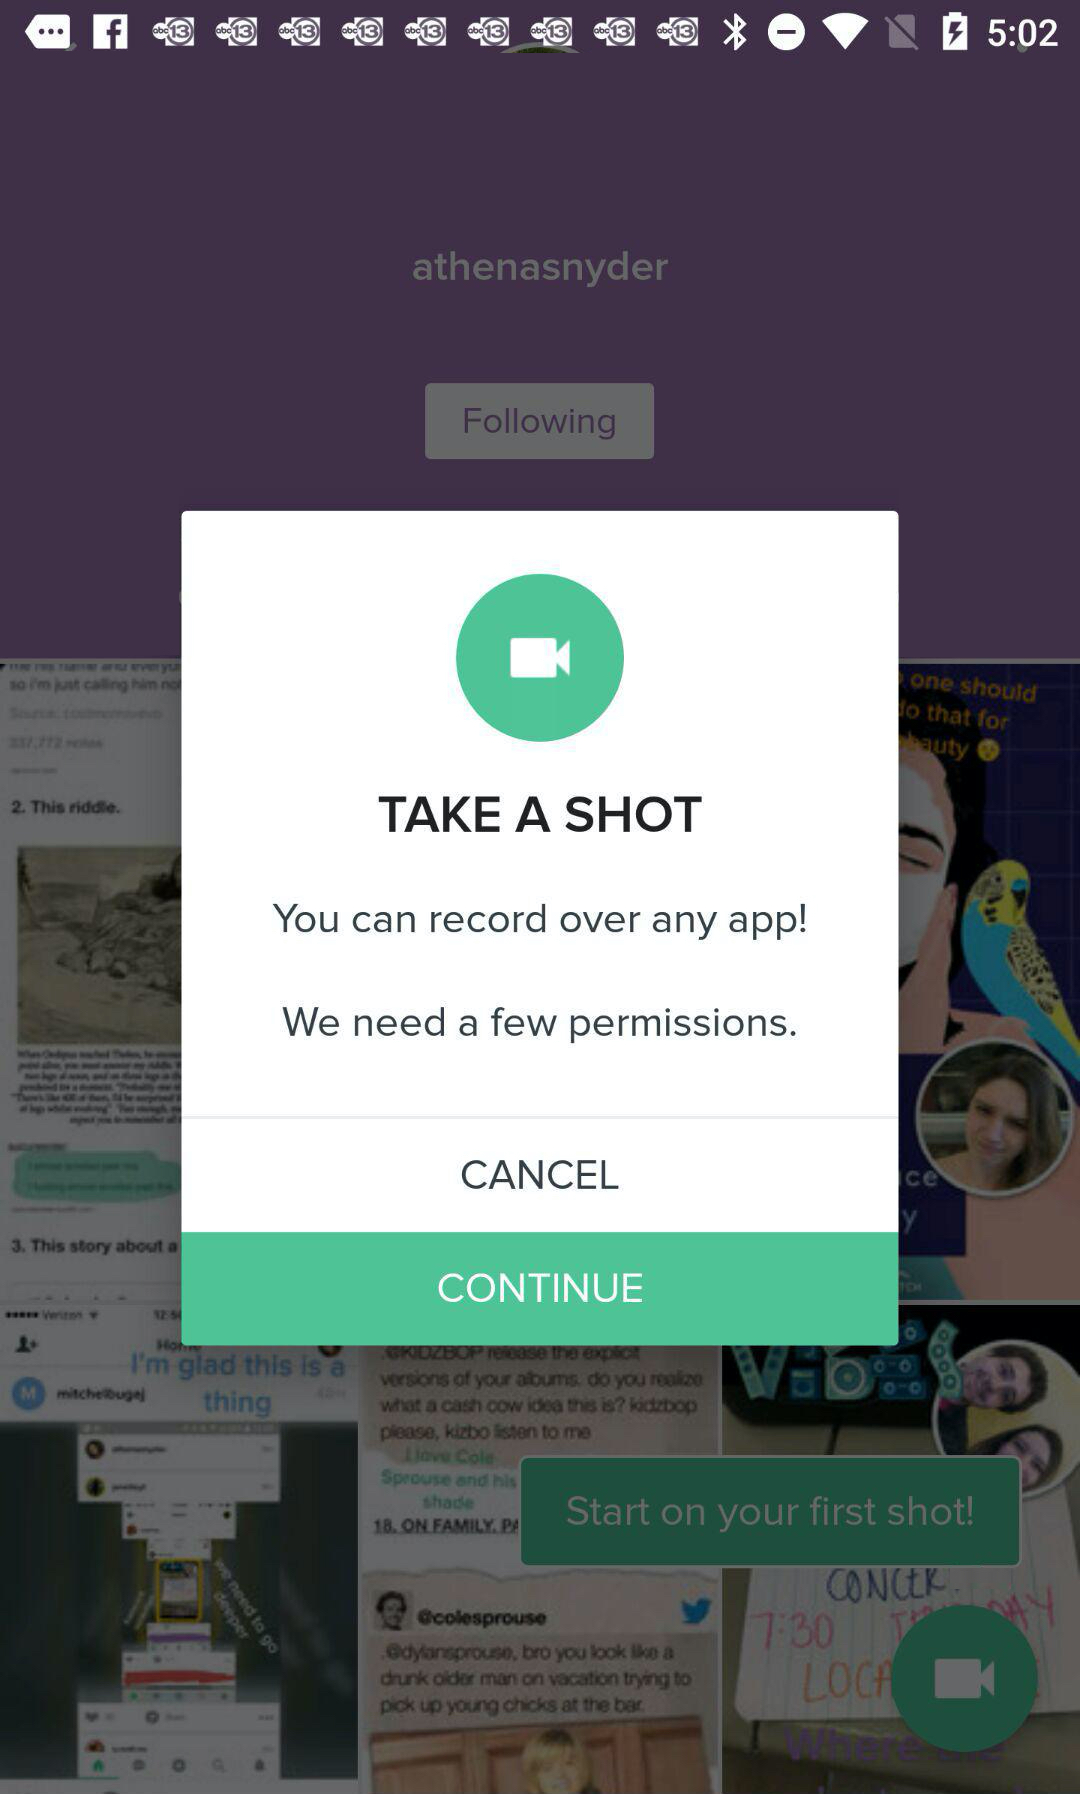Icon: (890, 1604, 1038, 1754)
Image: (457, 575, 623, 739)
Modal: (182, 511, 899, 1347)
Text: (282, 1005, 796, 1044), (272, 903, 806, 941), (378, 794, 705, 833), (413, 251, 669, 290)
TextButton: (183, 1117, 898, 1233), (183, 1233, 899, 1345), (519, 1454, 1024, 1568), (425, 383, 656, 461)
UpperTaskBar: (1, 1, 1080, 64)
